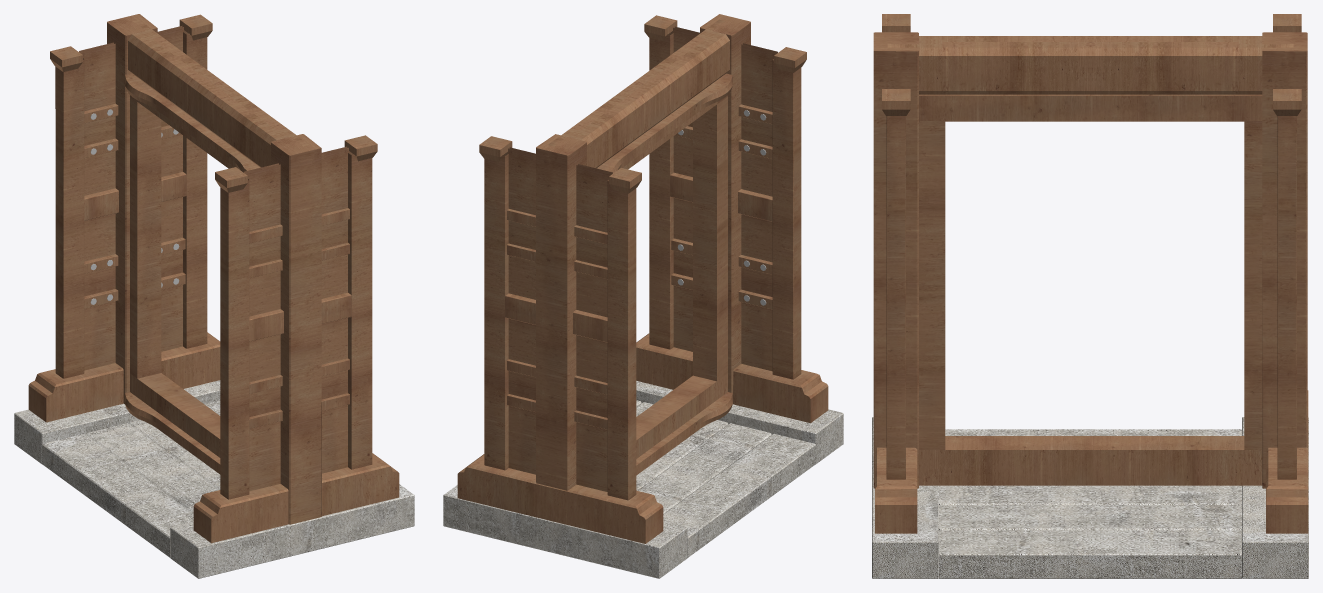
The model's file is SM_JSH_DoorF.fbx.
The picture shows the model from 3 angles, left to right: view 1: azimuth 30°, elevation 25°; view 2: azimuth 150°, elevation 25°; view 3: azimuth 270°, elevation 25°; orthographic projection. The views are drawn at different scales.
Visible parts, largest first — view 1: SM_JSH_DoorF; view 2: SM_JSH_DoorF; view 3: SM_JSH_DoorF.
Boxes of the visible parts, x1,y1,x2,y2 form: SM_JSH_DoorF: (14,14,414,578); SM_JSH_DoorF: (443,14,843,578); SM_JSH_DoorF: (872,14,1308,578).
Size of the model in its own units: 141 by 207 by 248.
